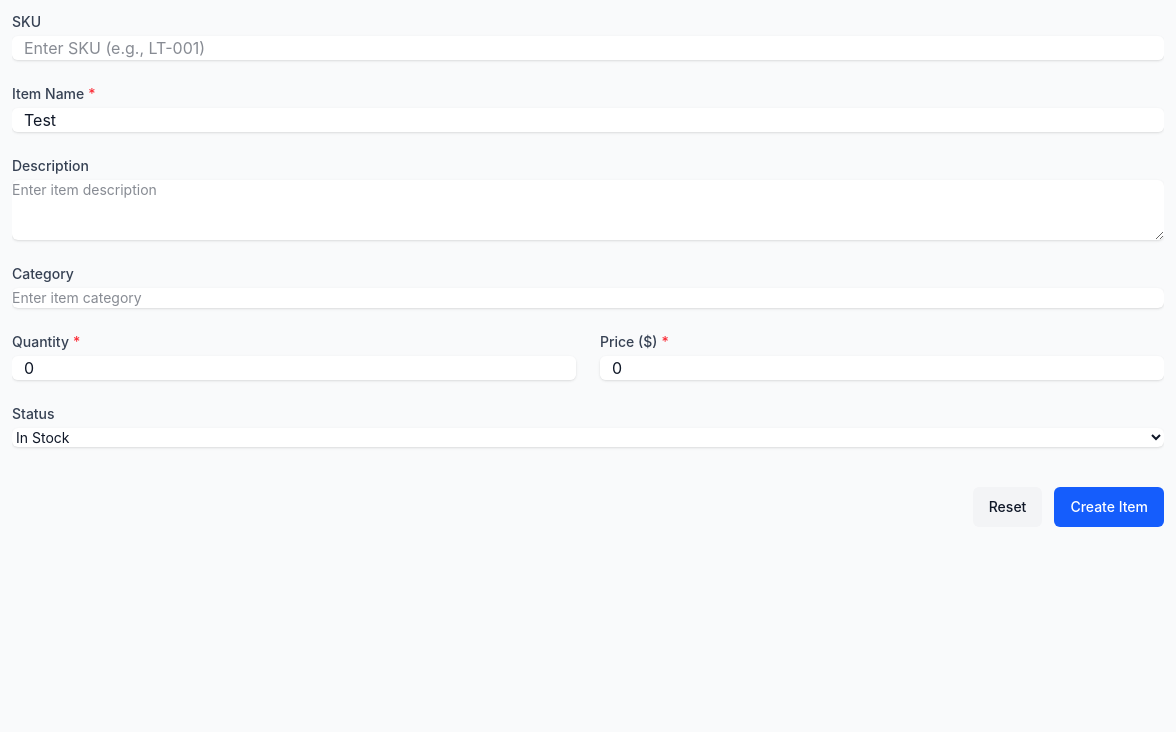
ItemForm › shows error message for negative quantity
The image size is (1176, 732).
Type "-5" into the number field labelled "Quantity *" at (294, 368), box [12,356,576,380]
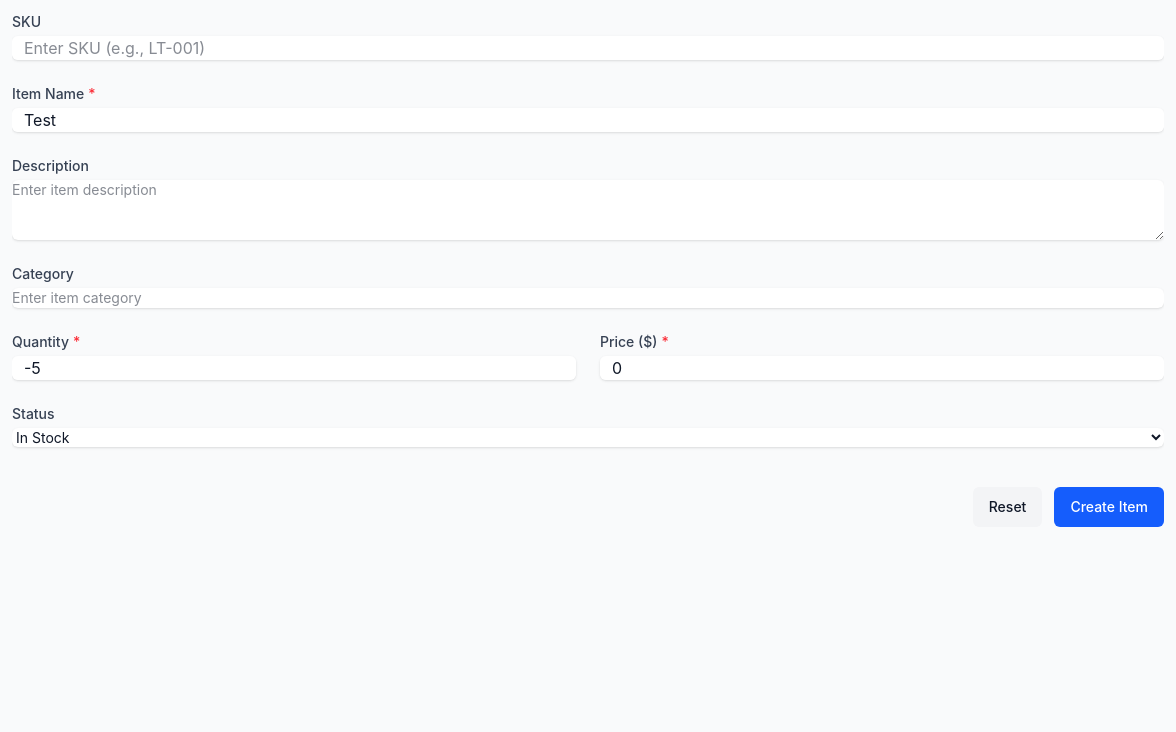
Submit the form
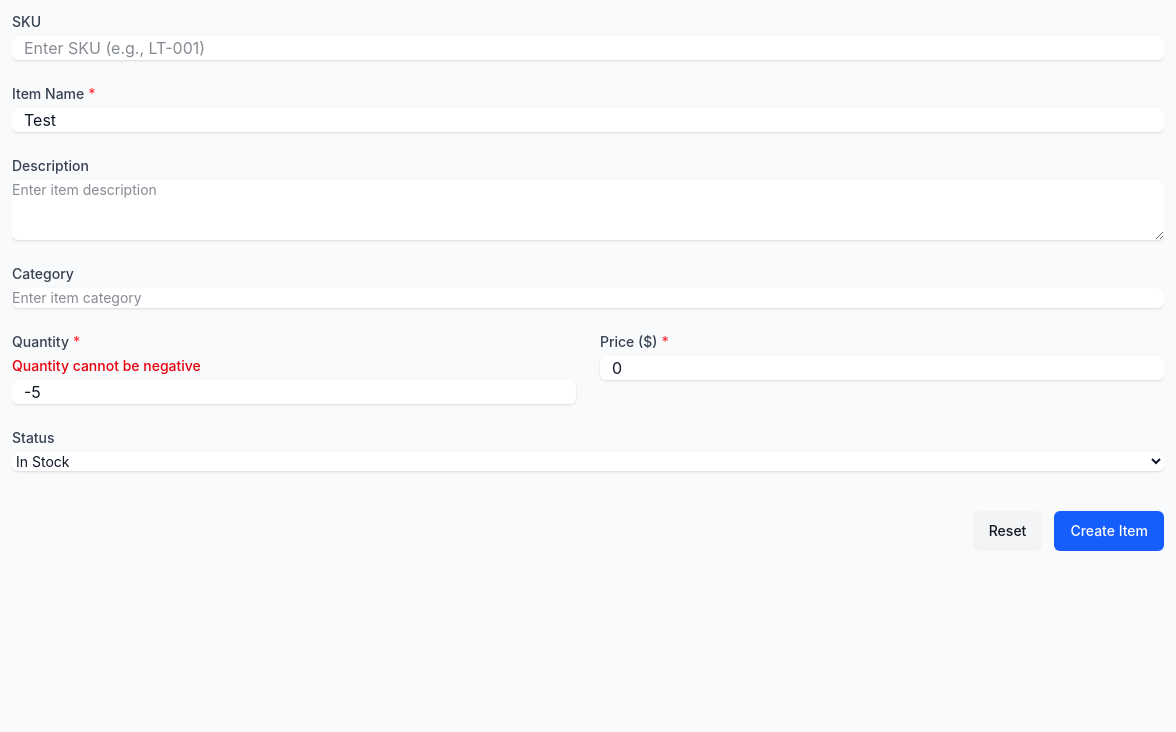
Check: the text "Quantity cannot be negative" is shown, box [12,357,201,374]
